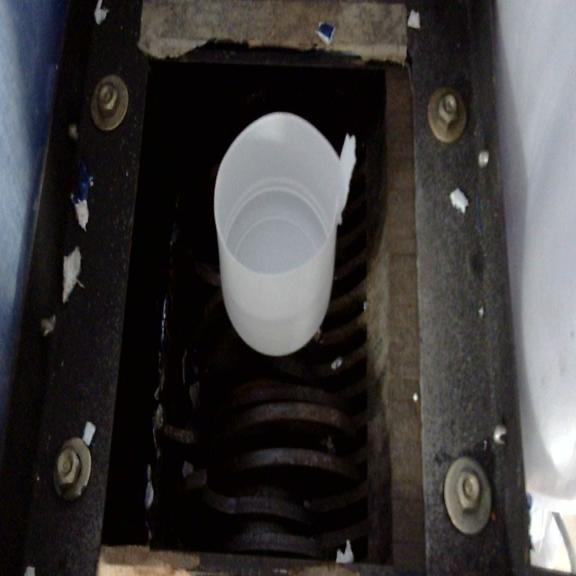Plastik: (201, 77, 377, 375)
